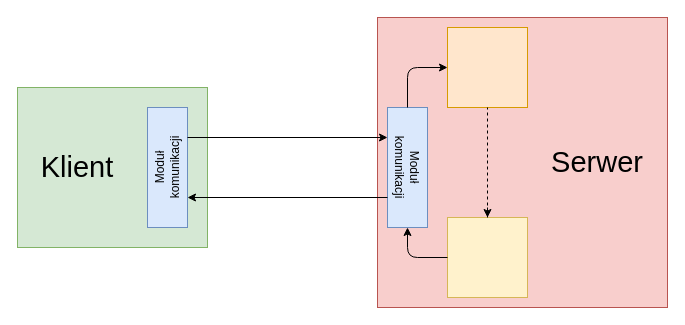
The diagram is 685 pixels wide and 325 high, and some of its shapes have lost their labels. The shapes that lost their labels are listed below. From the top down, each one's centre as x and y in pixels, then its label:
(487,67): Request Manager
(487,257): Response Manager
